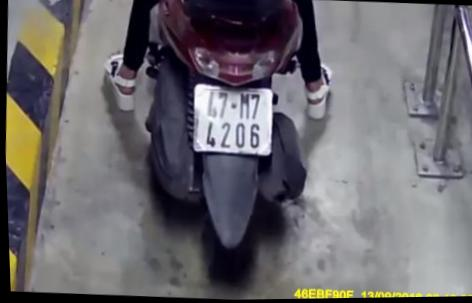LP: (188, 83, 275, 158)
